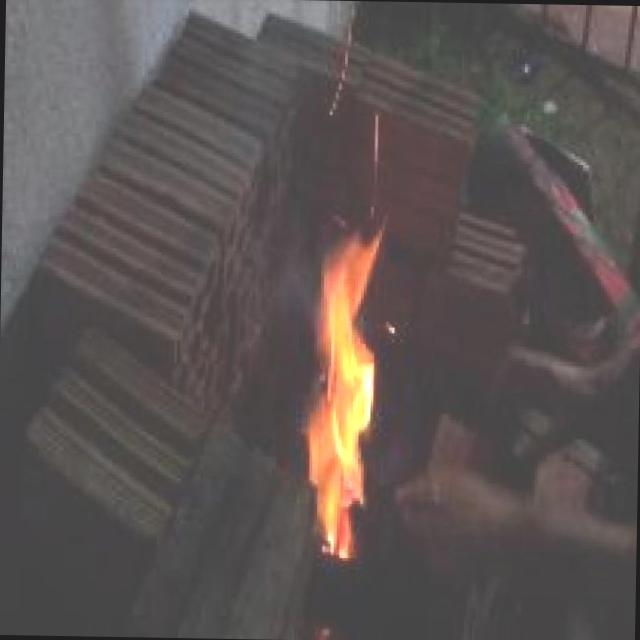fire: (266, 193, 444, 575)
